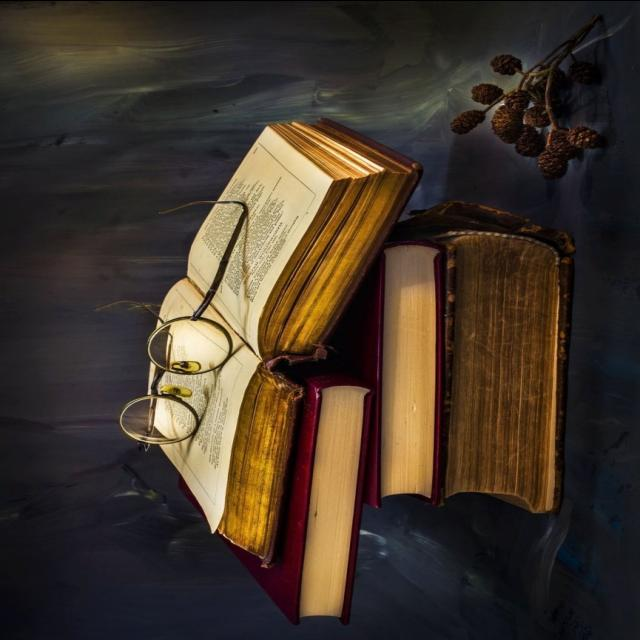book: (116, 156, 378, 552)
